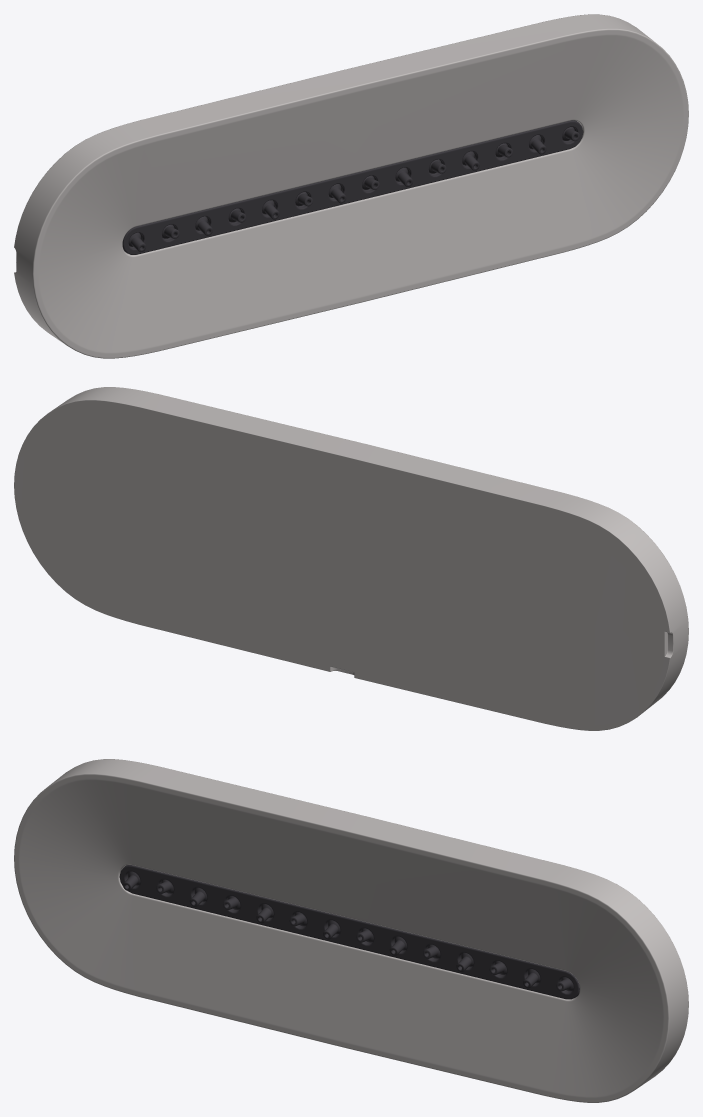
3 renders of one model, top to bottom at view 1: azimuth 30°, elevation 25°; view 2: azimuth 150°, elevation 25°; view 3: azimuth 330°, elevation 25°, orthographic.
Parts seen in each view (by area): view 1: 26300; view 2: 26300; view 3: 26300.
Part boxes in pixels (x1,y1,x2,y2): 26300: (14,14,688,358); 26300: (14,387,688,730); 26300: (14,759,688,1102).
Bounding box in the file's own units: 10.86 × 3.46 × 0.5497.
1 material, 1 textured.
